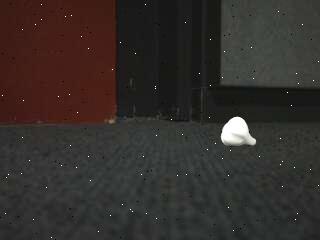Garlic: (219, 117, 258, 148)
